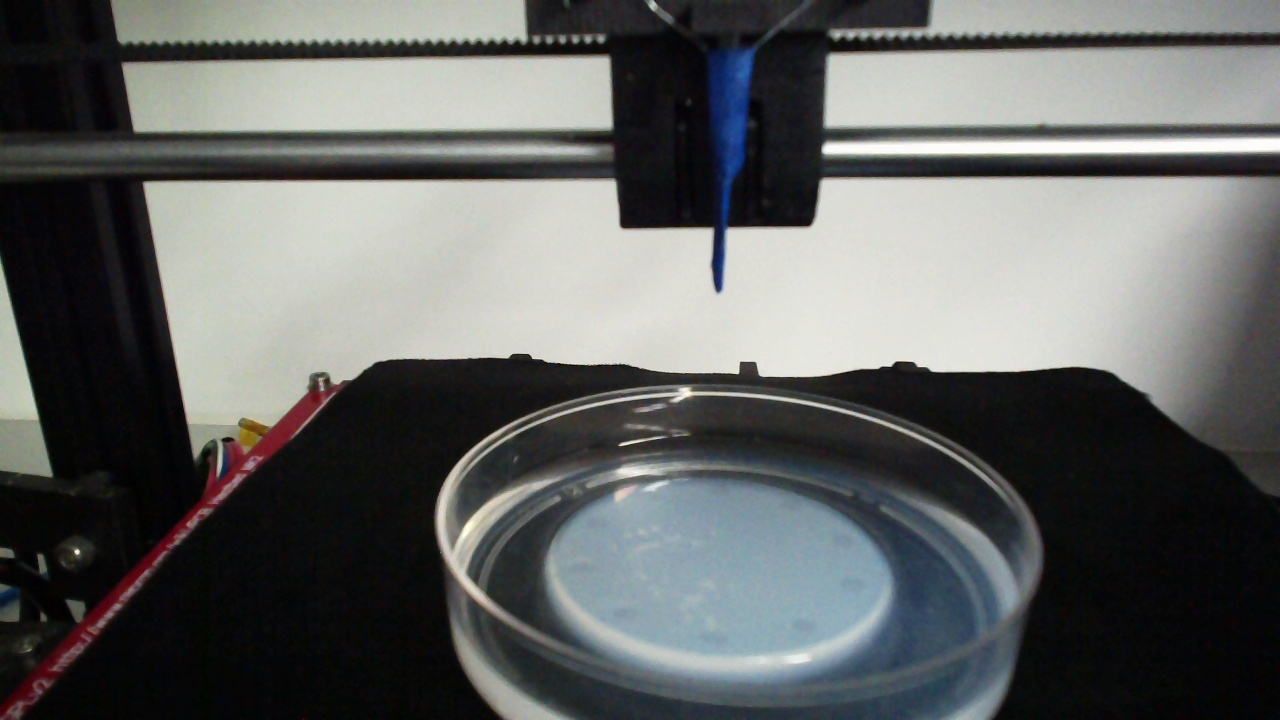groove: (699, 630, 730, 646), (582, 515, 612, 531), (792, 618, 820, 635), (840, 577, 865, 596), (832, 532, 856, 551), (779, 496, 805, 513), (704, 483, 731, 499), (567, 562, 597, 576), (611, 606, 638, 621)
needle: (711, 54, 754, 293)
